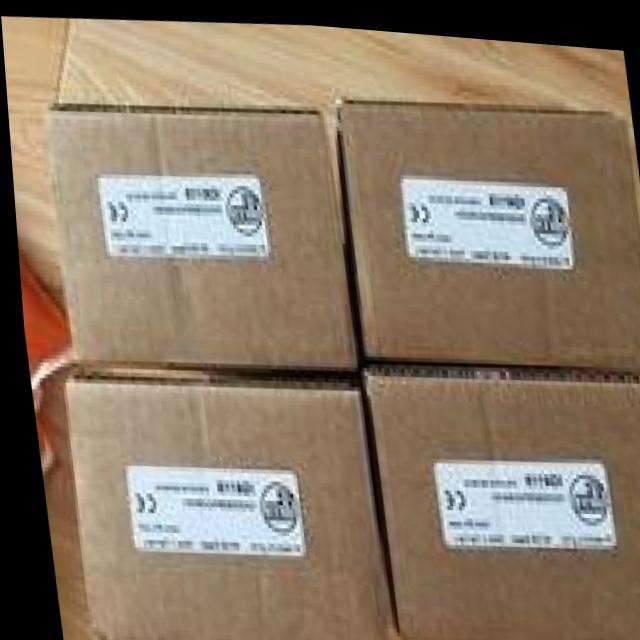box: (61, 368, 384, 640), (334, 93, 640, 368), (356, 355, 640, 640), (48, 107, 356, 369)
